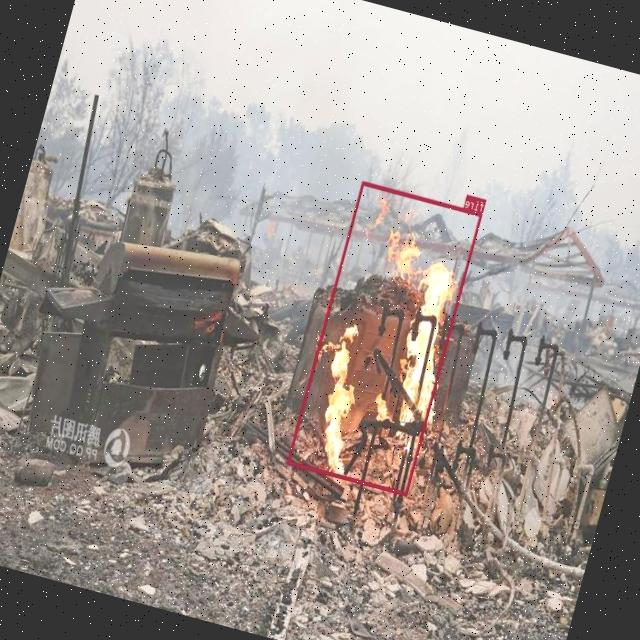fire: (286, 180, 482, 496)
